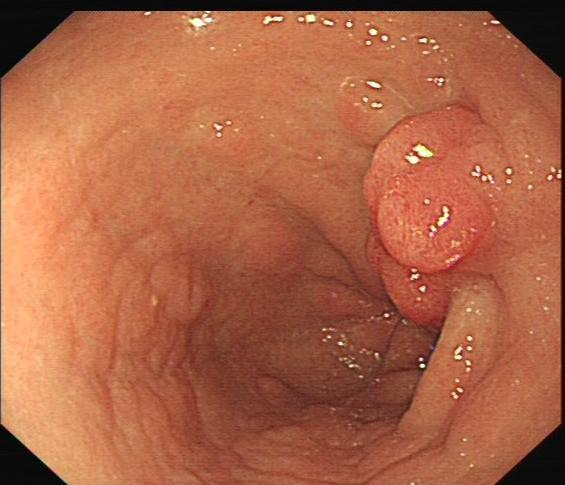Polyp: (359, 102, 498, 274)
